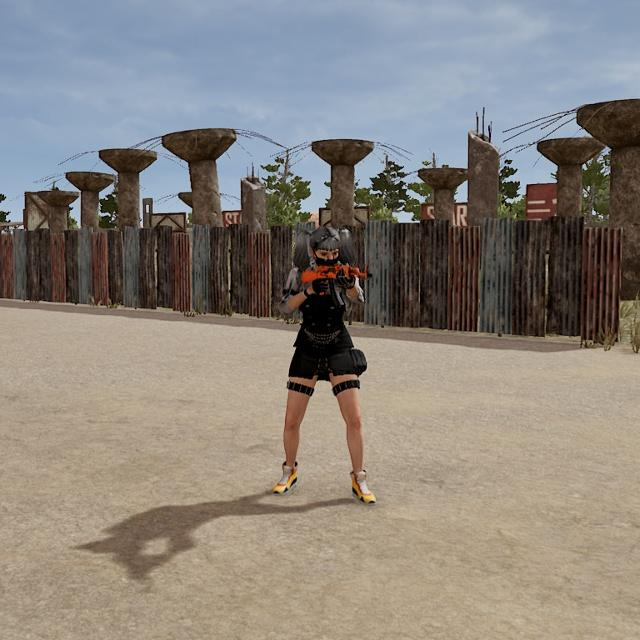head: (306, 223, 347, 273)
people: (259, 218, 388, 514)
